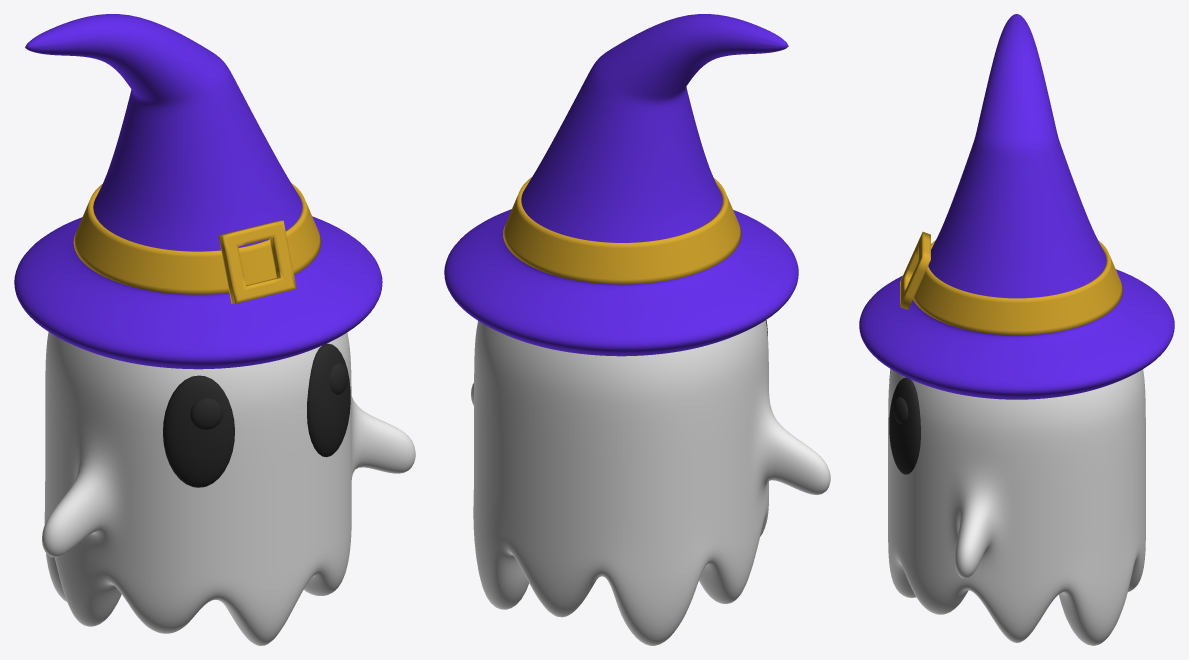
File: uploads_files_3565630_ghost.fbx
The picture shows the model from 3 angles, left to right: view 1: azimuth 30°, elevation 25°; view 2: azimuth 150°, elevation 25°; view 3: azimuth 270°, elevation 25°; orthographic projection. The views are drawn at different scales.
Parts seen in each view (by area): view 1: eyes; view 2: eyes; view 3: eyes.
Boxes of the visible parts, box(x1,y1,x2,y2) form: eyes: box(14, 14, 415, 645); eyes: box(444, 14, 830, 645); eyes: box(859, 14, 1174, 645).
Size of what is drawn, in the model's own units: 238 by 383 by 204.
